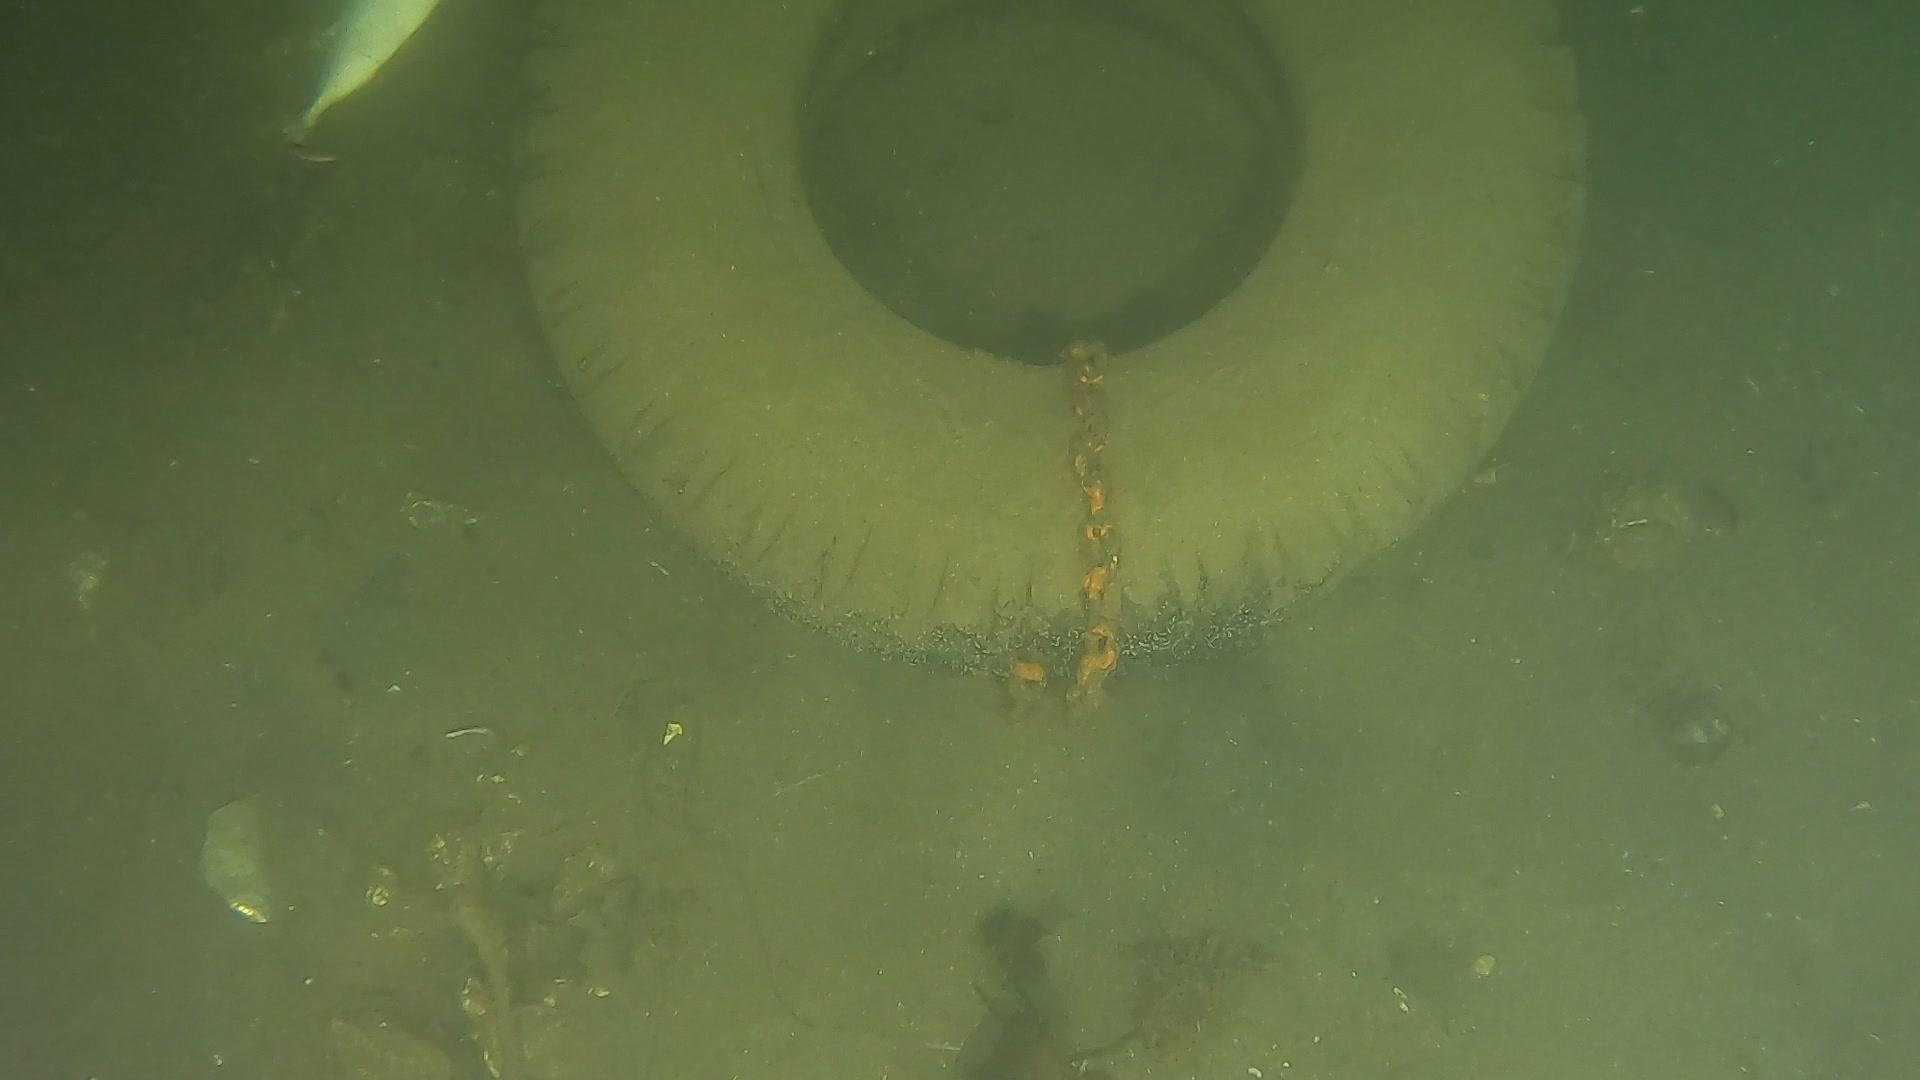tire: (506, 3, 1590, 674)
